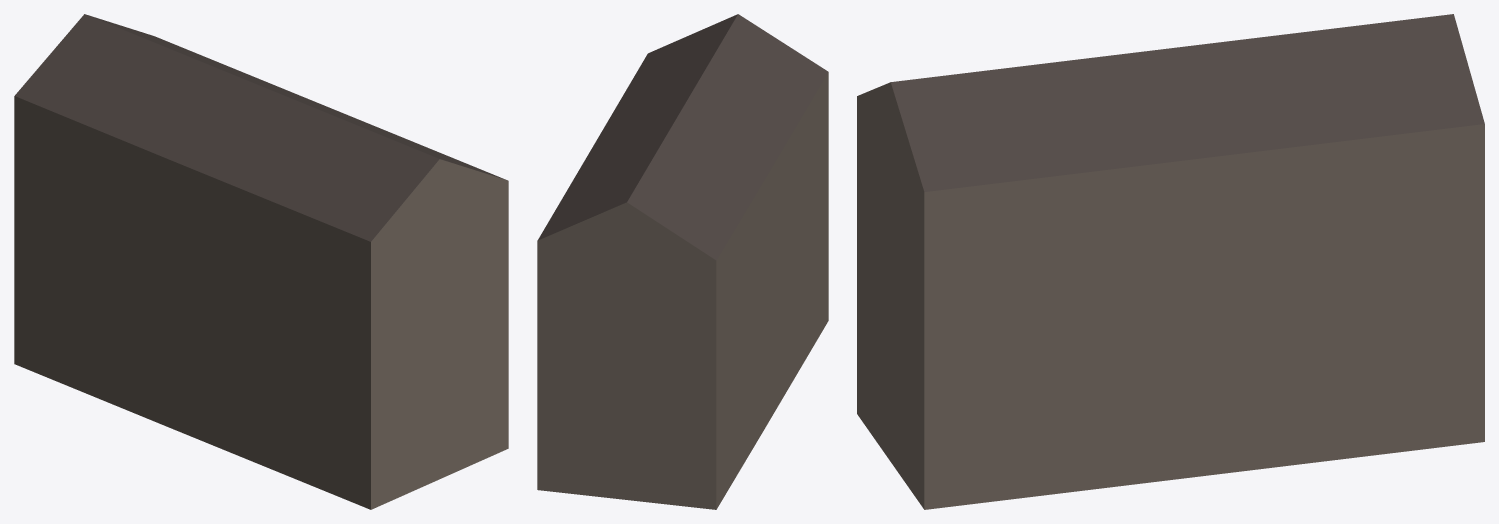
3 views of the same model, side by side, from view 1: azimuth 30°, elevation 25°; view 2: azimuth 150°, elevation 25°; view 3: azimuth 270°, elevation 25° (orthographic). The views are drawn at different scales.
Visible parts, largest first — view 1: HP-w776801015; view 2: HP-w776801015; view 3: HP-w776801015.
Boxes of the visible parts, <box> form: HP-w776801015: <box>14,14,508,509</box>; HP-w776801015: <box>537,14,828,509</box>; HP-w776801015: <box>857,14,1484,509</box>.
Bounding box in the file's own units: 6.65 × 7.17 × 10.74.
